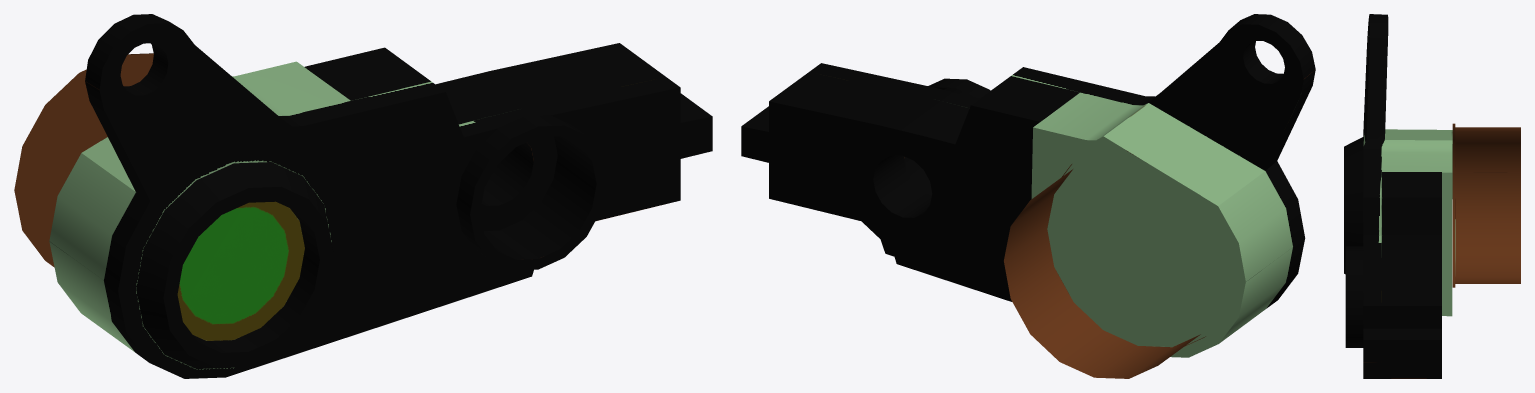
The model's file is ПТ-МехПрицелЗад_П.fbx.
The picture shows the model from 3 angles, left to right: view 1: azimuth 30°, elevation 25°; view 2: azimuth 150°, elevation 25°; view 3: azimuth 270°, elevation 25°; orthographic projection. The views are drawn at different scales.
Visible parts, largest first — view 1: задняя планка_P; view 2: задняя планка_P; view 3: задняя планка_P.
Boxes of the visible parts, box(x1,y1,x2,y2) form: задняя планка_P: box(14, 14, 712, 378); задняя планка_P: box(741, 14, 1315, 378); задняя планка_P: box(1344, 14, 1520, 378).
Size of the model in its own units: 37.5 by 21.63 by 14.55.
Materials: 1 (1 with a texture image).
